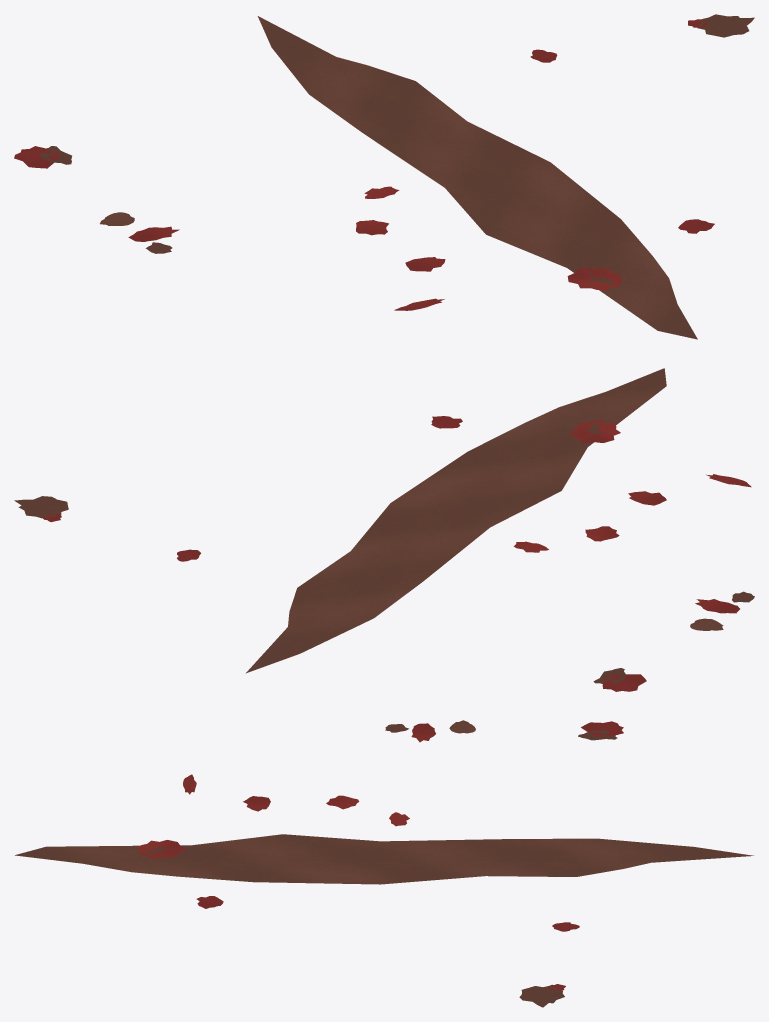
The model's file is blood_long_smear.glb.
The picture shows the model from 3 angles, top to bottom: view 1: azimuth 30°, elevation 25°; view 2: azimuth 150°, elevation 25°; view 3: azimuth 270°, elevation 25°; orthographic projection. The views are drawn at different scales.
Visible parts, largest first — view 1: blood_long_smear; view 2: blood_long_smear; view 3: blood_long_smear.
Part boxes in pixels (x1=…): blood_long_smear: x1=14, y1=14, x2=754, y2=339; blood_long_smear: x1=14, y1=368, x2=754, y2=691; blood_long_smear: x1=15, y1=720, x2=753, y2=1007.
Bounding box in the file's own units: 1.36 × 0.0003 × 1.49.
2 materials, 2 textured.
